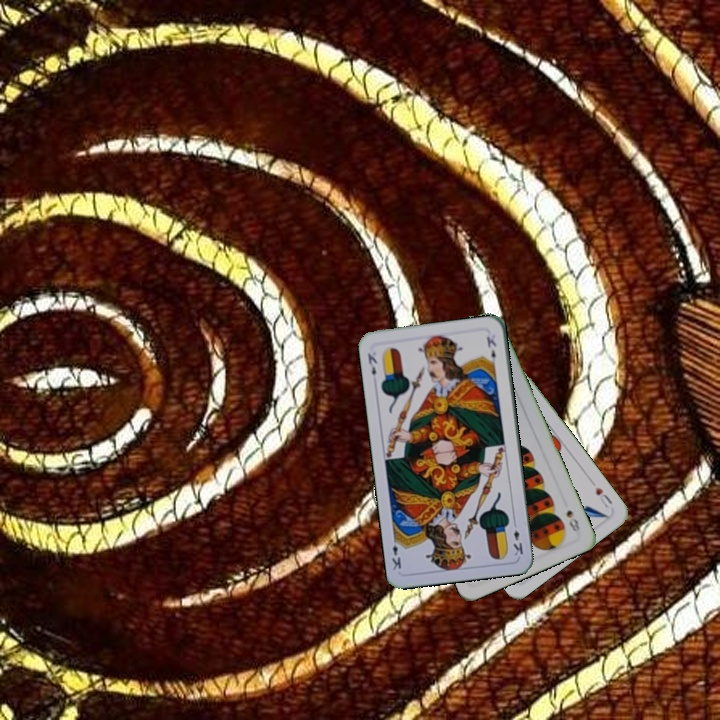EK: (509, 517, 526, 558), (363, 349, 380, 386)
HU: (591, 483, 615, 510)
S8: (562, 505, 582, 535)
